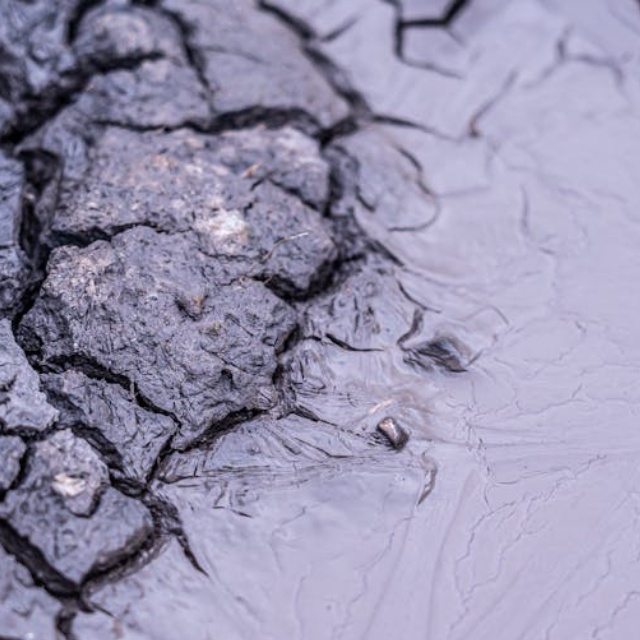网状裂隙: (278, 390, 548, 640), (488, 224, 640, 640), (340, 430, 490, 640)
